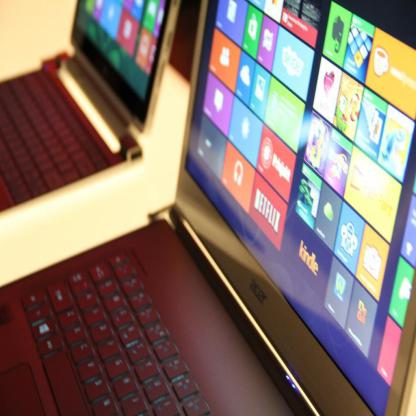board: (0, 0, 416, 416), (0, 0, 182, 213)
